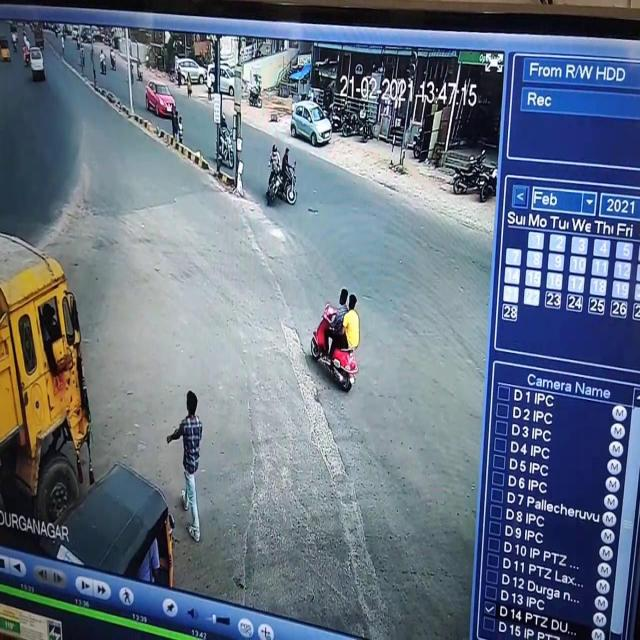accident: (260, 133, 302, 207)
